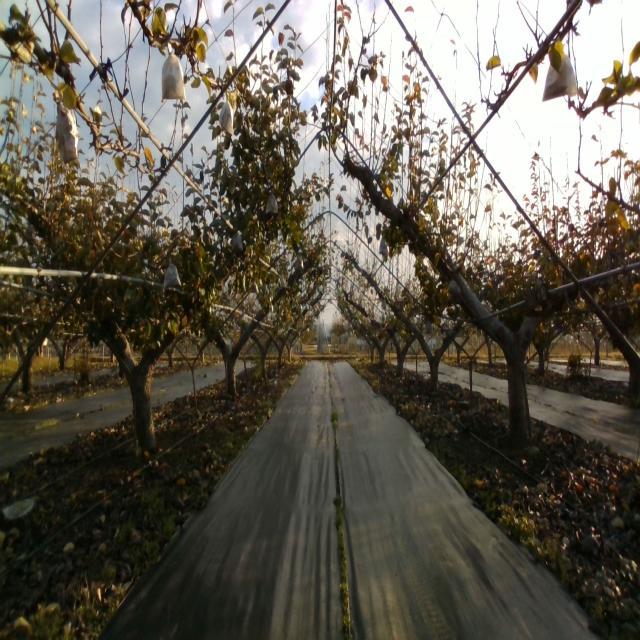pearbags: (55, 95, 79, 164), (542, 55, 577, 102), (161, 42, 185, 103), (162, 256, 182, 289), (219, 92, 234, 136), (265, 188, 279, 215), (230, 227, 243, 253), (378, 234, 391, 256), (448, 279, 461, 298)
